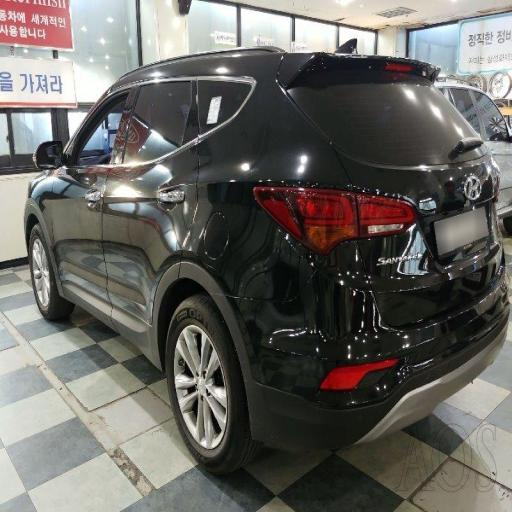dent: (46, 228, 186, 367)
scratch: (240, 192, 454, 404)
